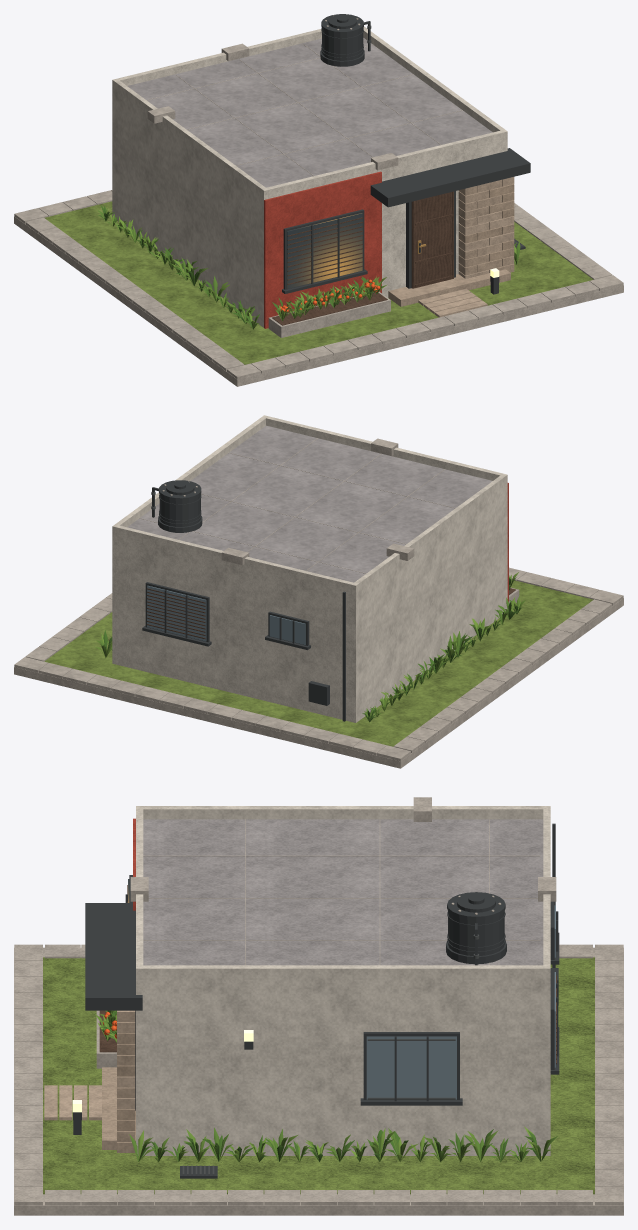
The model's file is casa_basica_b.fbx.
3 renders of one model, top to bottom at view 1: azimuth 30°, elevation 25°; view 2: azimuth 150°, elevation 25°; view 3: azimuth 270°, elevation 25°, orthographic. The views are drawn at different scales.
Parts seen in each view (by area): view 1: Casa, Azotea, Base, Jardín, Marco, Fachada roja, Persiana, Vegetación, Vidrio, Umbral, Sillar, Sillar.001 (+1 smaller); view 2: Casa, Azotea, Base, Jardín, Marco, Vidrio.001, Vegetación, Persiana; view 3: Casa, Azotea, Base, Jardín, Marco, Vegetación, Vidrio.001, Sillar, Umbral, Sillar.006, Sillar.001, Aro de empotrable.
Boxes of the visible parts, left/top/right/bottom form: Casa: left=112, top=26, right=507, bottom=327; Azotea: left=127, top=38, right=492, bottom=187; Base: left=14, top=15, right=623, bottom=386; Jardín: left=45, top=201, right=593, bottom=364; Marco: left=282, top=14, right=530, bottom=294; Fachada roja: left=264, top=171, right=381, bottom=328; Persiana: left=272, top=191, right=453, bottom=325; Vegetación: left=98, top=205, right=520, bottom=329; Vidrio: left=287, top=213, right=362, bottom=288; Umbral: left=388, top=177, right=514, bottom=306; Sillar: left=418, top=211, right=514, bottom=317; Sillar.001: left=458, top=186, right=514, bottom=275; Casa: left=112, top=415, right=507, bottom=722; Azotea: left=127, top=425, right=492, bottom=582; Base: left=14, top=438, right=623, bottom=768; Jardín: left=44, top=580, right=593, bottom=746; Marco: left=142, top=480, right=345, bottom=721; Vidrio.001: left=147, top=585, right=305, bottom=644; Vegetación: left=95, top=572, right=525, bottom=722; Persiana: left=147, top=588, right=515, bottom=639; Casa: left=136, top=806, right=550, bottom=1155; Azotea: left=143, top=819, right=543, bottom=965; Base: left=14, top=797, right=623, bottom=1215; Jardín: left=43, top=957, right=594, bottom=1194; Marco: left=73, top=823, right=559, bottom=1178; Vegetación: left=95, top=1010, right=557, bottom=1162; Vidrio.001: left=366, top=905, right=555, bottom=1099; Sillar: left=44, top=1076, right=135, bottom=1120; Umbral: left=102, top=1010, right=135, bottom=1149; Sillar.006: left=117, top=1033, right=135, bottom=1130; Sillar.001: left=117, top=1055, right=135, bottom=1152; Aro de empotrable: left=182, top=934, right=479, bottom=1175.
Size of the model in its own units: 10 by 4.39 by 10.
Materials: 21 (11 with a texture image).
